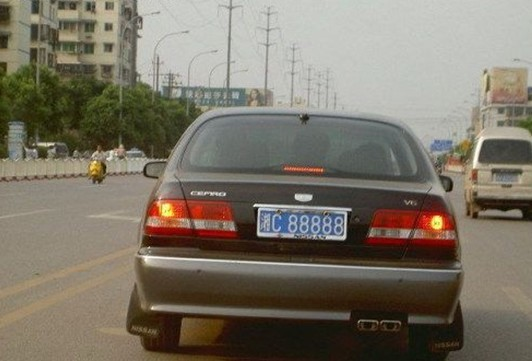plate_number: (255, 207, 348, 237)
